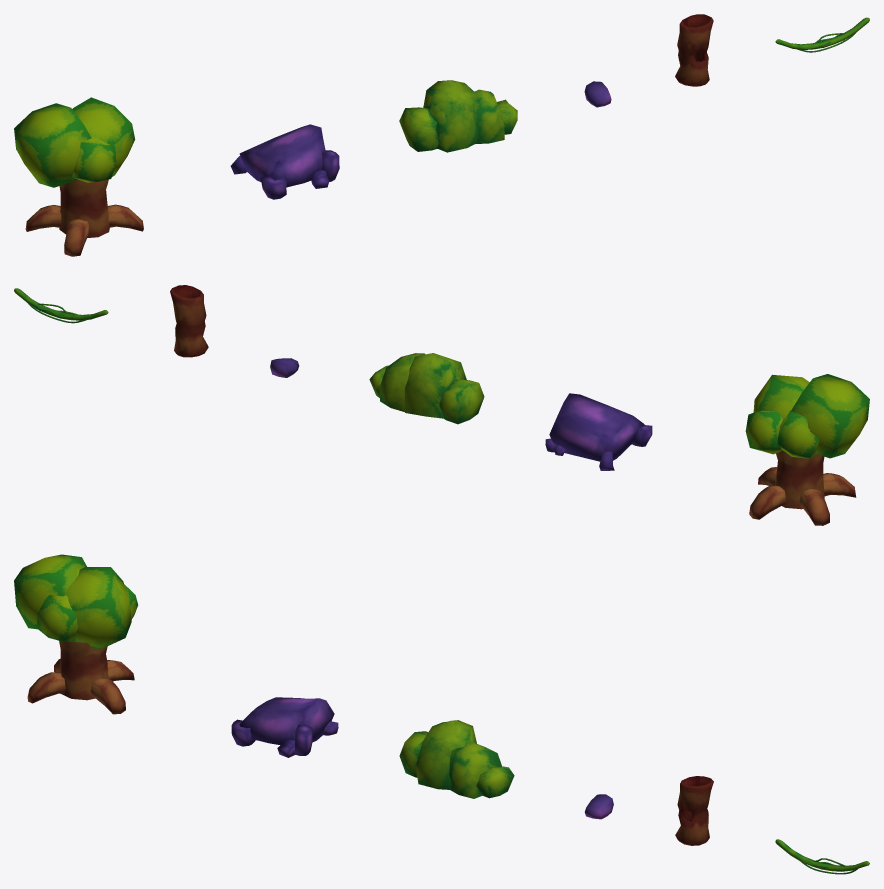
File: ForestAssetPack.fbx
3 views of the same model, one above another, from view 1: azimuth 30°, elevation 25°; view 2: azimuth 150°, elevation 25°; view 3: azimuth 330°, elevation 25° (orthographic).
Parts seen in each view (by area): view 1: TreeGrown, BushLeafes, RockCluster, TreeTrunk, Vine, RockSmall; view 2: TreeGrown, BushLeafes, RockCluster, TreeTrunk, Vine, RockSmall; view 3: TreeGrown, BushLeafes, RockCluster, TreeTrunk, Vine.
Part boxes in pixels (x1,y1,x2,y2): TreeGrown: (14,97,143,256); BushLeafes: (399,80,517,152); RockCluster: (230,124,339,199); TreeTrunk: (675,14,713,86); Vine: (775,17,869,52); RockSmall: (584,81,611,107); TreeGrown: (745,374,869,525); BushLeafes: (369,353,484,424); RockCluster: (545,393,652,470); TreeTrunk: (170,285,208,357); Vine: (14,288,108,323); RockSmall: (270,358,299,377); TreeGrown: (14,554,138,714); BushLeafes: (399,720,514,798); RockCluster: (231,697,338,757); TreeTrunk: (675,776,713,845); Vine: (775,839,869,874).
Size of the model in its own units: 2831 by 408 by 313.
